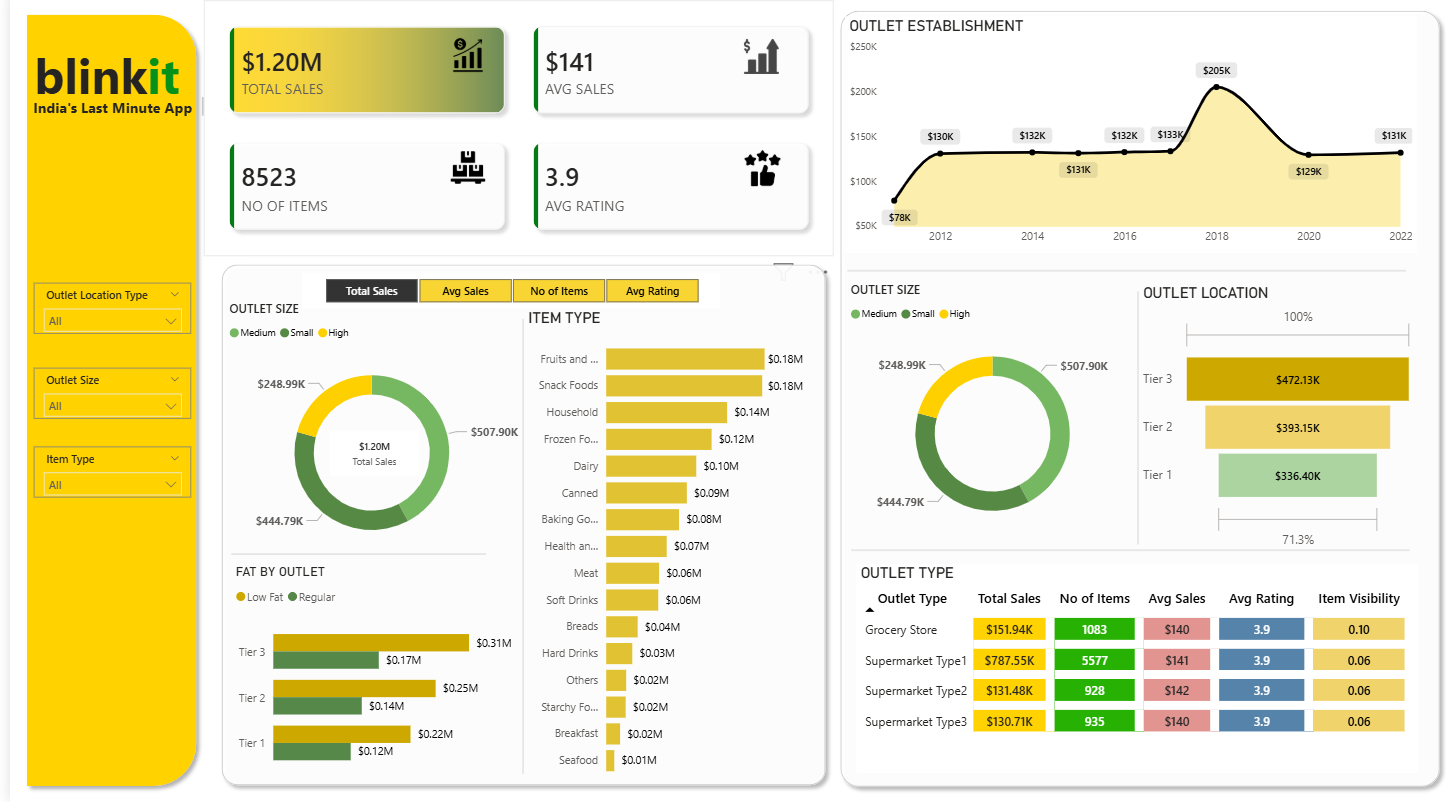

This screenshot's page, from the dashboard's own definition file:
{"tool":"powerbi","page":{"name":"Page 1","canvas":[1600,900],"ordinal":0},"visuals":[{"type":"shape","box":[10,13.3,206.7,876.7],"z":0},{"type":"textbox","box":[22.6,48.4,182.3,83.9],"z":1000},{"type":"textbox","box":[21.1,110,205.6,31.1],"z":2000},{"type":"cardVisual","fields":{"Data":["Sum(BlinkIT Grocery Data.Sales)","BlinkIT Grocery Data.Avg Sales","BlinkIT Grocery Data.No of Items","BlinkIT Grocery Data.Avg Rating"]},"box":[215,7.5,702.5,285],"z":3000},{"type":"image","box":[808.3,48.3,56.7,41.7],"z":4000},{"type":"image","box":[490,48.3,40,38.3],"z":5000},{"type":"image","box":[490,173.3,40,38.3],"z":6000},{"type":"image","box":[800,173.3,75,40],"z":7000},{"type":"shape","box":[227.5,292.5,690,597.5],"z":8000},{"type":"slicer","title":"FAT CONTENT","fields":{"Values":["BlinkIT Grocery Data.Outlet Location Type"]},"box":[26.2,321.5,175.4,56.9],"z":9000},{"type":"slicer","fields":{"Values":["Metrics.Metrics"]},"box":[325,310,465,40],"z":10000},{"type":"clusteredBarChart","title":"FAT BY OUTLET","fields":{"Y":["BlinkIT Grocery Data.Total Sales"],"Category":["BlinkIT Grocery Data.Outlet Location Type"],"Series":["BlinkIT Grocery Data.Item Fat Content"]},"box":[246.2,635,320,246.2],"z":11000},{"type":"cardVisual","fields":{"Data":["BlinkIT Grocery Data.Total Sales"]},"box":[350,481.4,110,60],"z":12000},{"type":"shape","box":[246.2,612.5,283.8,22.5],"z":13000},{"type":"shape","box":[565,361.2,12.5,506.2],"z":14000},{"type":"donutChart","title":"OUTLET SIZE","fields":{"Category":["BlinkIT Grocery Data.Outlet Size"],"Y":["BlinkIT Grocery Data.Total Sales"]},"box":[240,341.4,327.1,294.3],"z":14500},{"type":"barChart","title":"ITEM TYPE","fields":{"Y":["BlinkIT Grocery Data.Total Sales"],"Category":["BlinkIT Grocery Data.Item Type"]},"box":[572,350,316,532],"z":15000},{"type":"shape","box":[915,10,685,881.7],"z":16000},{"type":"lineChart","title":"OUTLET ESTABLISHMENT","fields":{"Y":["BlinkIT Grocery Data.Total Sales"],"Category":["BlinkIT Grocery Data.Outlet Establishment Year"]},"box":[930,25,636.7,263.3],"z":17000},{"type":"shape","box":[931.7,300,621.7,15],"z":18000},{"type":"donutChart","title":"OUTLET SIZE","fields":{"Y":["BlinkIT Grocery Data.Total Sales"],"Category":["BlinkIT Grocery Data.Outlet Size"]},"box":[930.8,320,326.2,293.8],"z":19000},{"type":"shape","box":[1249.2,330.8,12.3,281.5],"z":20000},{"type":"funnel","title":"OUTLET LOCATION","fields":{"Y":["Sum(BlinkIT Grocery Data.Sales)"],"Category":["BlinkIT Grocery Data.Outlet Location Type"]},"box":[1256.9,323.1,310.8,300],"z":21000},{"type":"shape","box":[936.9,612.3,621.5,13.8],"z":22000},{"type":"pivotTable","title":"OUTLET TYPE","fields":{"Rows":["BlinkIT Grocery Data.Outlet Type"],"Values":["BlinkIT Grocery Data.Total Sales","BlinkIT Grocery Data.No of Items","BlinkIT Grocery Data.Avg Sales","BlinkIT Grocery Data.Avg Rating","Avg(BlinkIT Grocery Data.Item Visibility)"]},"box":[941.4,635.1,625.3,232.9],"z":23000},{"type":"slicer","title":"FAT CONTENT","fields":{"Values":["BlinkIT Grocery Data.Outlet Size"]},"box":[26.2,415.4,175.4,56.9],"z":24000},{"type":"slicer","title":"FAT CONTENT","fields":{"Values":["BlinkIT Grocery Data.Item Type"]},"box":[26.2,503.1,175.4,56.9],"z":25000}]}

Visuals, with their boxes in screenshot pixels (x1, y1, x2, y2), scaled from the page's 1600x900 canvas onto the 1446x802 screenshot:
shape: x1=9 y1=12 x2=196 y2=793
textbox: x1=20 y1=43 x2=185 y2=118
textbox: x1=19 y1=98 x2=205 y2=126
cardVisual - Sum(BlinkIT Grocery Data.Sales) x BlinkIT Grocery Data.Avg Sales: x1=194 y1=7 x2=829 y2=261
image: x1=731 y1=43 x2=782 y2=80
image: x1=443 y1=43 x2=479 y2=77
image: x1=443 y1=154 x2=479 y2=189
image: x1=723 y1=154 x2=791 y2=190
shape: x1=206 y1=261 x2=829 y2=793
"FAT CONTENT" slicer: x1=24 y1=286 x2=182 y2=337
slicer - Metrics.Metrics: x1=294 y1=276 x2=714 y2=312
"FAT BY OUTLET" clusteredBarChart: x1=223 y1=566 x2=512 y2=785
cardVisual - BlinkIT Grocery Data.Total Sales: x1=316 y1=429 x2=416 y2=482
shape: x1=223 y1=546 x2=479 y2=566
shape: x1=511 y1=322 x2=522 y2=773
"OUTLET SIZE" donutChart: x1=217 y1=304 x2=513 y2=566
"ITEM TYPE" barChart: x1=517 y1=312 x2=803 y2=786
shape: x1=827 y1=9 x2=1445 y2=795
"OUTLET ESTABLISHMENT" lineChart: x1=840 y1=22 x2=1416 y2=257
shape: x1=842 y1=267 x2=1404 y2=281
"OUTLET SIZE" donutChart: x1=841 y1=285 x2=1136 y2=547
shape: x1=1129 y1=295 x2=1140 y2=546
"OUTLET LOCATION" funnel: x1=1136 y1=288 x2=1417 y2=555
shape: x1=847 y1=546 x2=1408 y2=558
"OUTLET TYPE" pivotTable: x1=851 y1=566 x2=1416 y2=773
"FAT CONTENT" slicer: x1=24 y1=370 x2=182 y2=421
"FAT CONTENT" slicer: x1=24 y1=448 x2=182 y2=499
